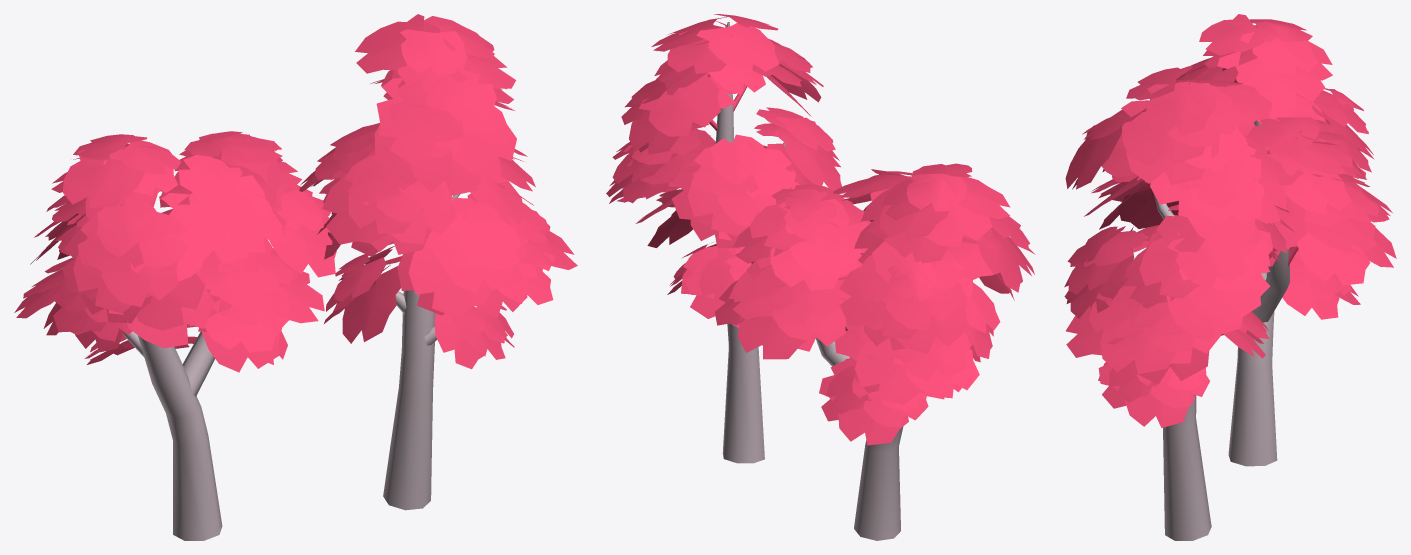
Rendered from Duo_Tree.fbx.
The picture shows the model from 3 angles, left to right: view 1: azimuth 30°, elevation 25°; view 2: azimuth 150°, elevation 25°; view 3: azimuth 270°, elevation 25°; orthographic projection. The views are drawn at different scales.
Parts seen in each view (by area): view 1: Cube.001; view 2: Cube.001; view 3: Cube.001.
Part boxes in pixels (x1=…): Cube.001: x1=14, y1=14, x2=577, y2=540; Cube.001: x1=606, y1=14, x2=1035, y2=540; Cube.001: x1=1064, y1=14, x2=1396, y2=540.
Size of the model in its own units: 1325 by 1315 by 829.
